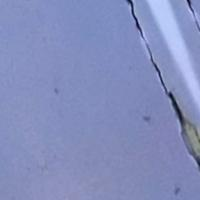crack: (123, 0, 199, 163)
